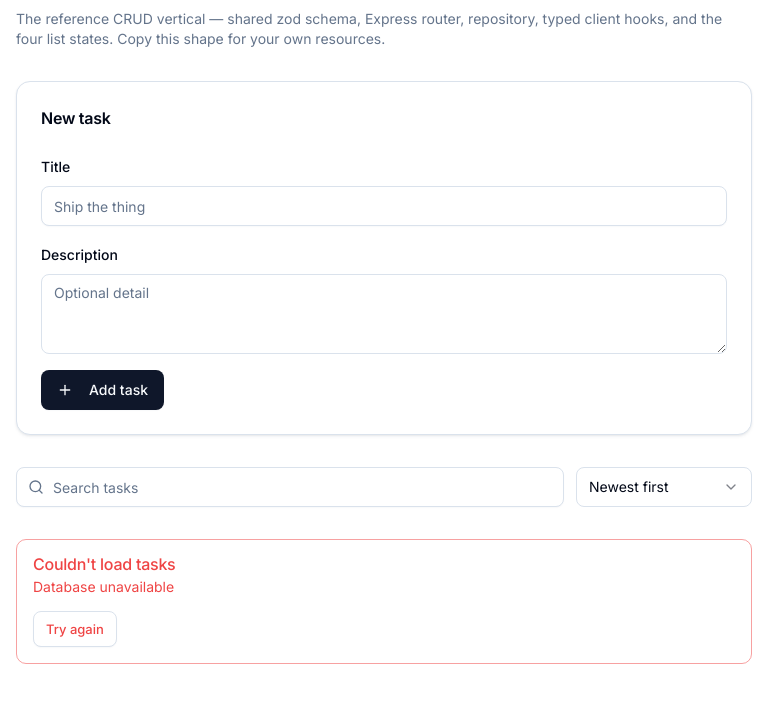
Test: TasksPage — the four list states › 2. renders the error state with the server message and a retry
(page scrolled)
Check: the heading "Couldn't load tasks" is shown, box [33,554,176,574]
Check: the text "Database unavailable" is shown, box [33,578,174,595]
Click the button "Try again". click: (75, 629)
box: [33,611,117,647]
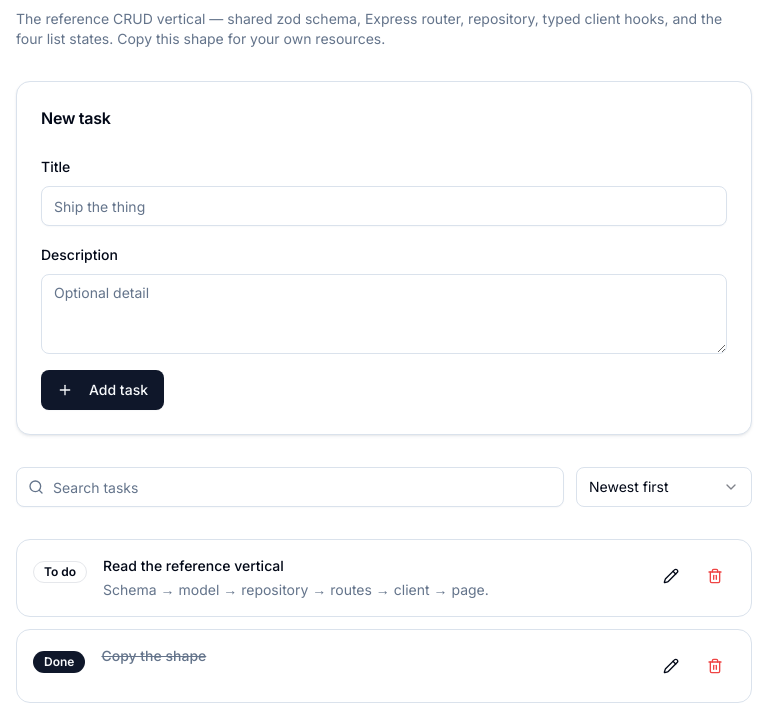
Check: the text "Read the reference vertical" is shown, box [103,557,284,574]
